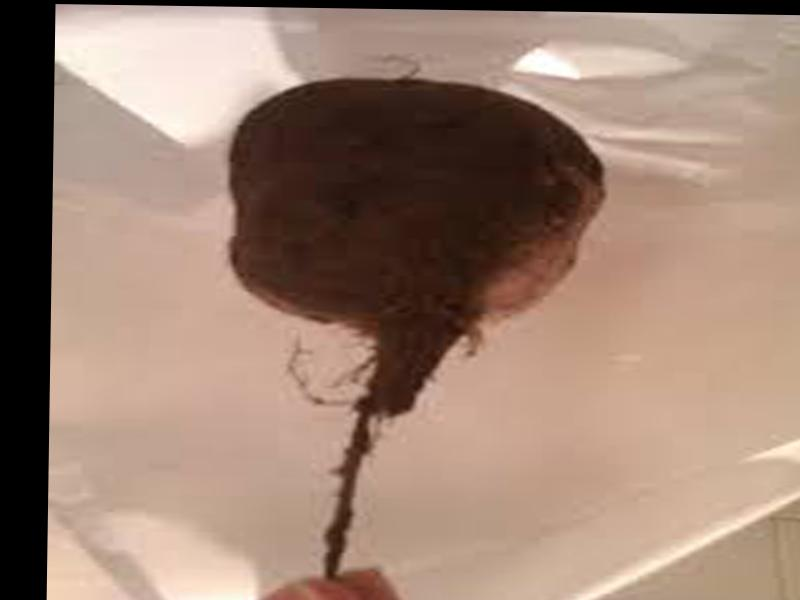Beet: (223, 75, 608, 588)
